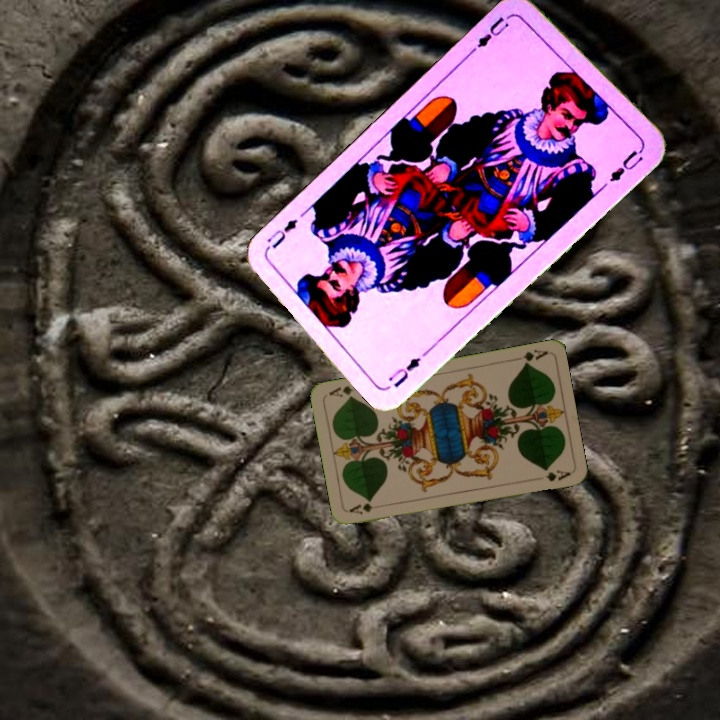EU: (468, 9, 516, 55), (384, 353, 424, 390)
GA: (509, 345, 550, 368), (346, 499, 375, 517)
